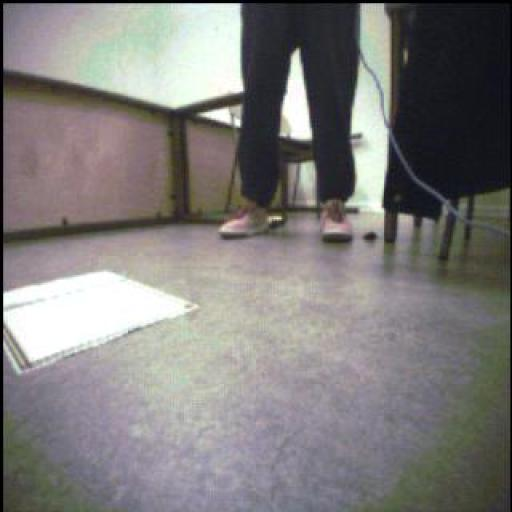Pad: (5, 271, 200, 374)
